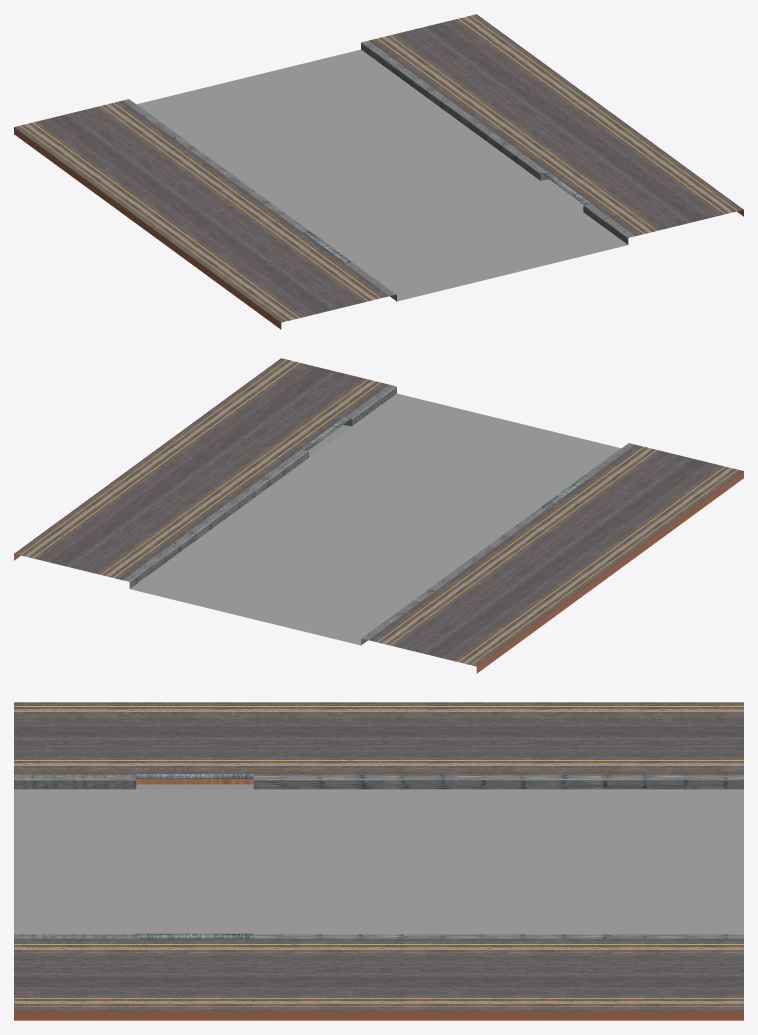
File: StraightStreet.FBX
3 renders of one model, top to bottom at view 1: azimuth 30°, elevation 25°; view 2: azimuth 150°, elevation 25°; view 3: azimuth 270°, elevation 25°, orthographic. The views are drawn at different scales.
Visible parts, largest first — view 1: Plane_013; view 2: Plane_013; view 3: Plane_013.
Boxes of the visible parts, x1=… form: Plane_013: x1=14, y1=14, x2=743, y2=329; Plane_013: x1=14, y1=358, x2=743, y2=673; Plane_013: x1=14, y1=702, x2=743, y2=1020.
Bounding box in the file's own units: 24 × 0.428 × 24.
